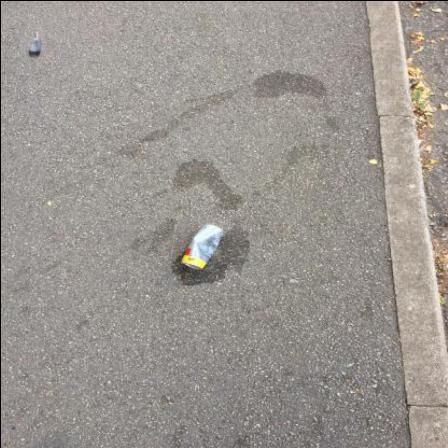Can: (182, 224, 224, 270)
Pop tab: (188, 264, 196, 270)
